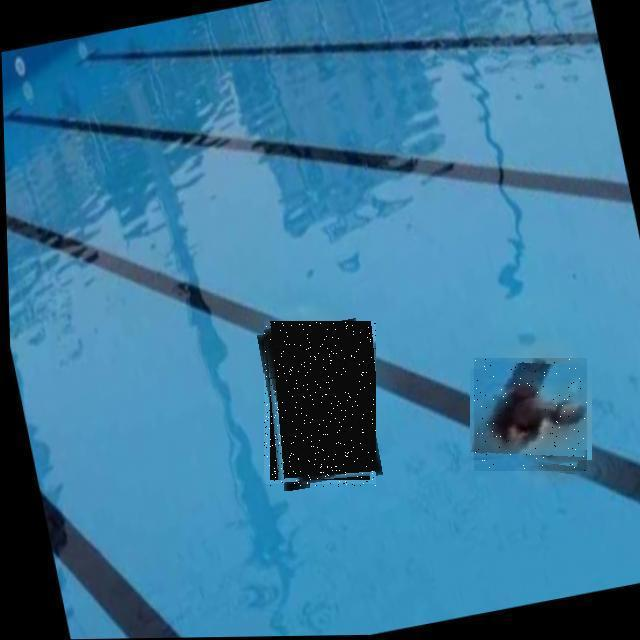swimming: (264, 322, 376, 488), (474, 358, 587, 471)
